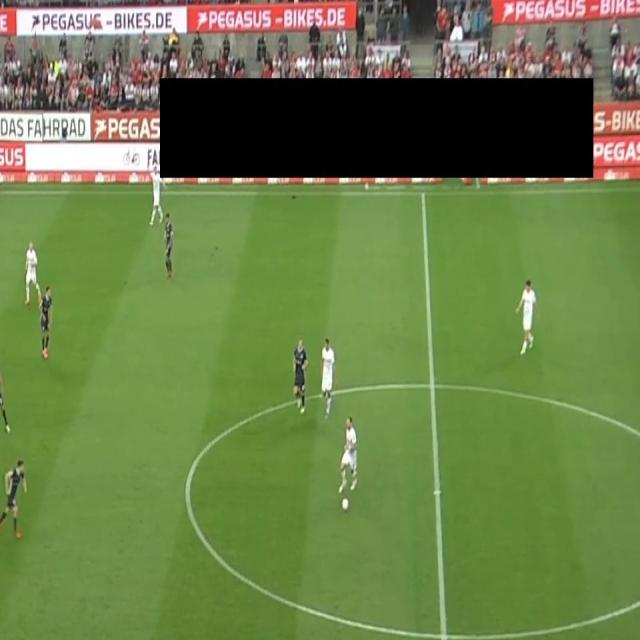ball: (341, 496, 350, 514)
